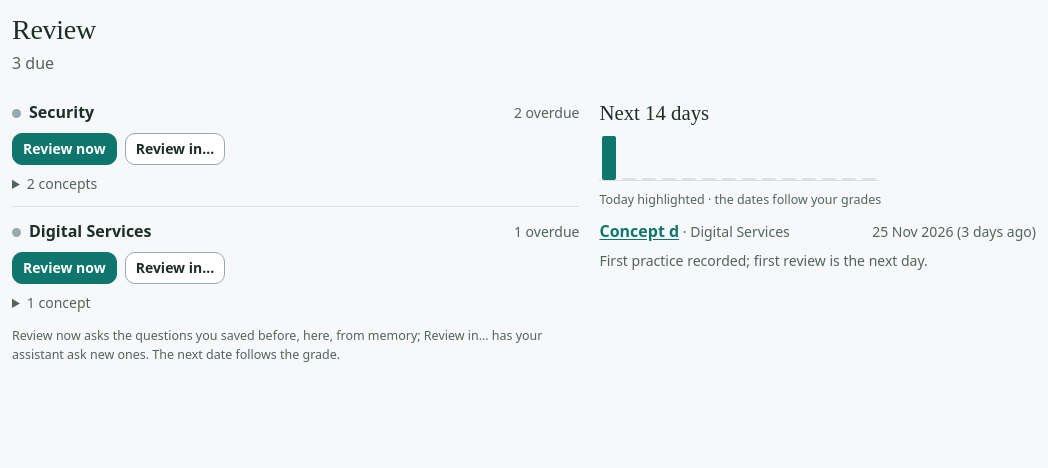
Test: Review in… (2026-11-26) › starts a review per course on the Review page, only for what is due
Check: the text "3 due" is shown, box [12,52,54,74]
Check: the text "Security" is shown, box [29,100,94,125]
Click the button with aria-label "Review Security in". click: click(175, 149)
box: [125,133,225,165]
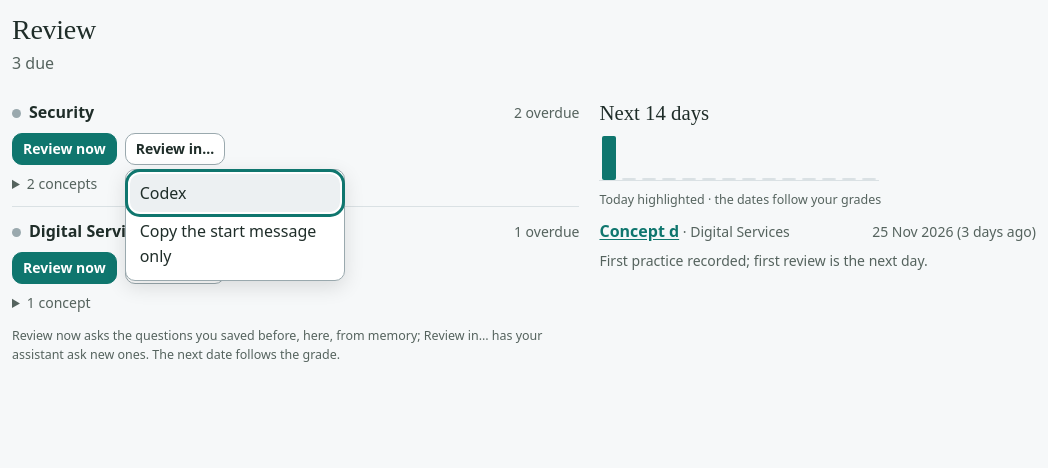
Click the menu item "Codex". click: click(235, 193)
box: [130,174,340,212]
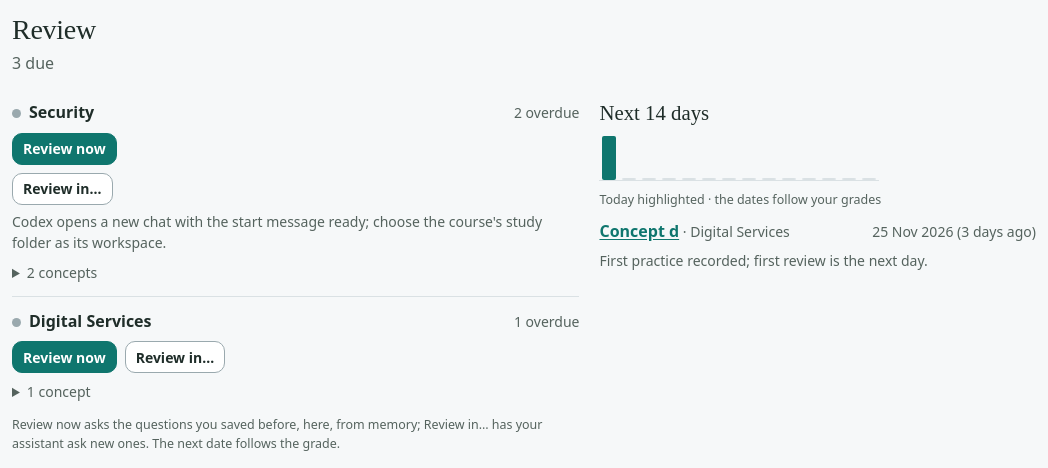
Check: the message is shown, box [12,211,580,254]
